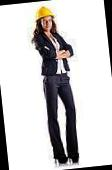helmet: (31, 5, 56, 23)
no_vest: (33, 29, 77, 79)
person: (25, 3, 92, 163)
